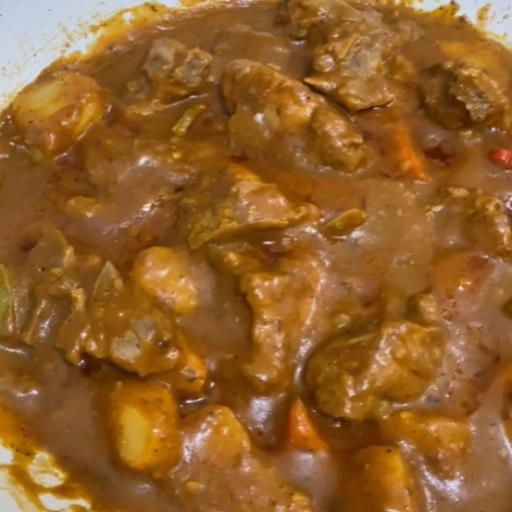pork caldereta: (0, 0, 511, 493)
